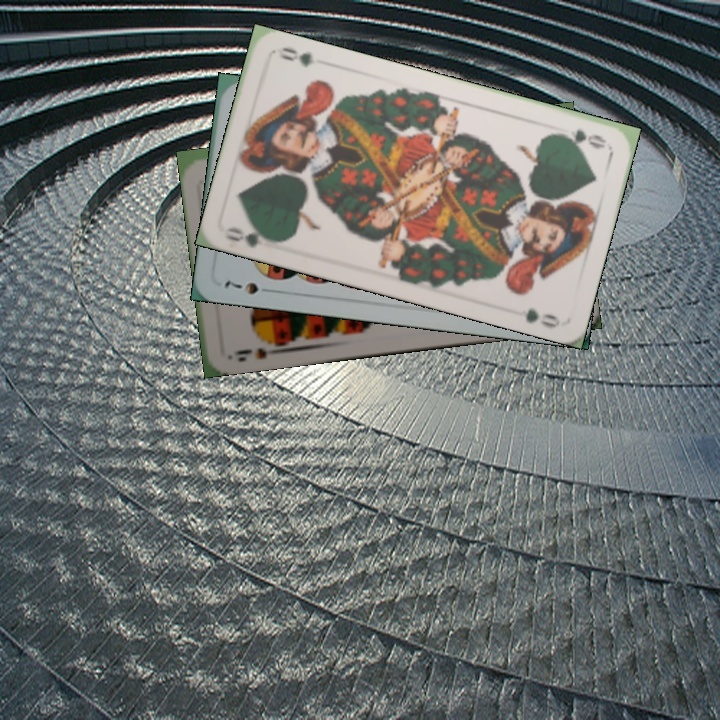GO: (222, 222, 283, 252), (551, 126, 610, 152)
S7: (220, 276, 276, 298)
S9: (227, 333, 286, 364)
